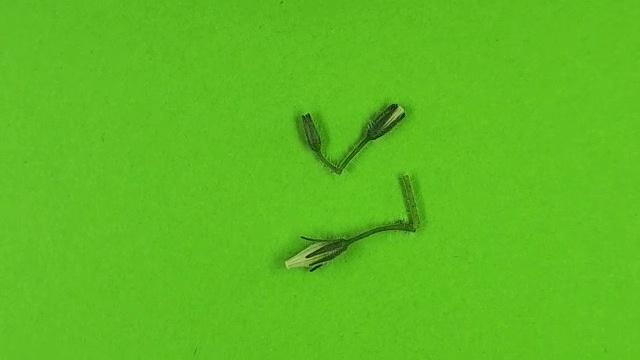Flower Bud: (284, 238, 346, 272), (366, 102, 405, 140), (301, 113, 322, 152)
